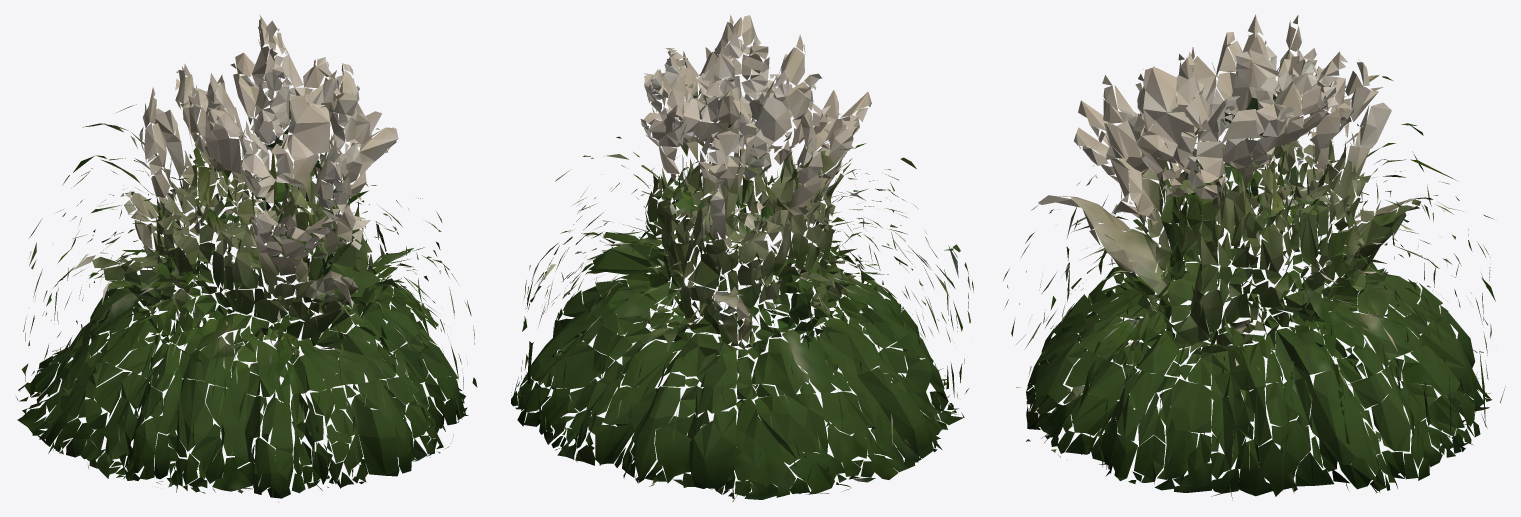
Rendered from cortadera.glb.
3 renders of one model, left to right at view 1: azimuth 30°, elevation 25°; view 2: azimuth 150°, elevation 25°; view 3: azimuth 270°, elevation 25°, orthographic. The views are drawn at different scales.
Parts seen in each view (by area): view 1: tripo_node_7968e100-427a-4aac-b1df-bf3c25f7a64b; view 2: tripo_node_7968e100-427a-4aac-b1df-bf3c25f7a64b; view 3: tripo_node_7968e100-427a-4aac-b1df-bf3c25f7a64b.
Boxes of the visible parts, x1,y1,x2,y2 form: tripo_node_7968e100-427a-4aac-b1df-bf3c25f7a64b: (16,14,477,498); tripo_node_7968e100-427a-4aac-b1df-bf3c25f7a64b: (511,14,973,502); tripo_node_7968e100-427a-4aac-b1df-bf3c25f7a64b: (1003,14,1505,500).
Bounding box in the file's own units: 0.9846 × 0.8338 × 0.9914.
1 material, 1 textured.
